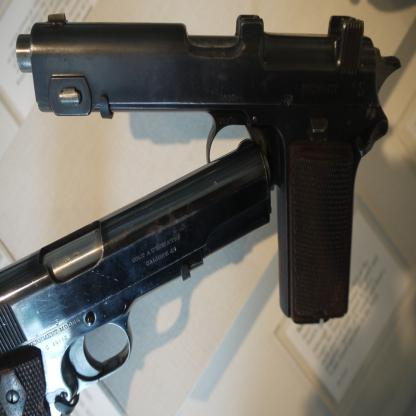Handgun: (15, 12, 400, 324), (0, 138, 271, 415)
